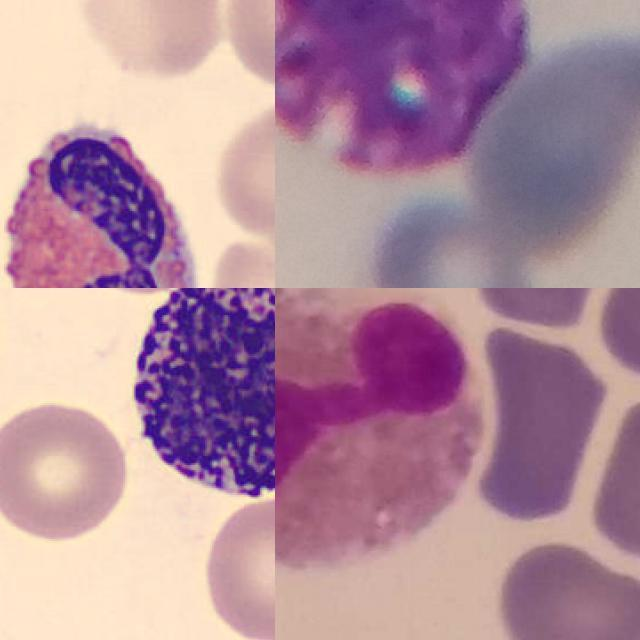Basophil: (275, 0, 531, 183), (114, 288, 275, 507)
Eosinophil: (275, 288, 489, 577), (0, 103, 217, 288)
RBC: (0, 394, 134, 544), (75, 0, 229, 82), (196, 488, 275, 640), (212, 98, 275, 239), (217, 0, 275, 91)
